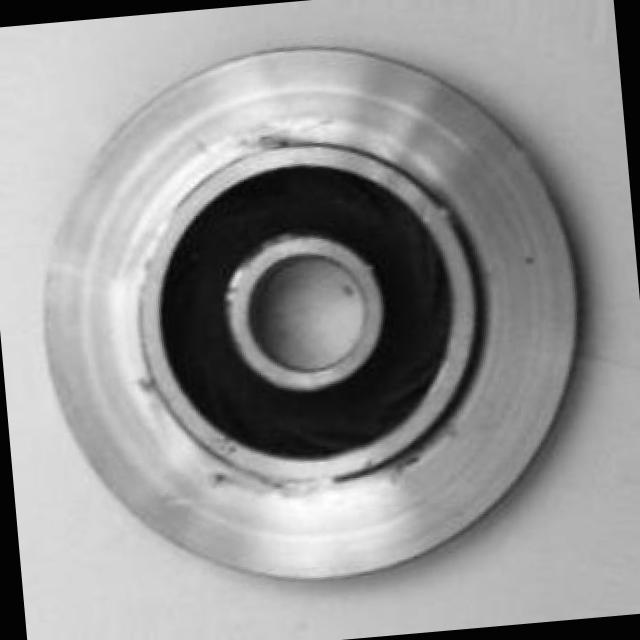Defect: (220, 453, 314, 513)
